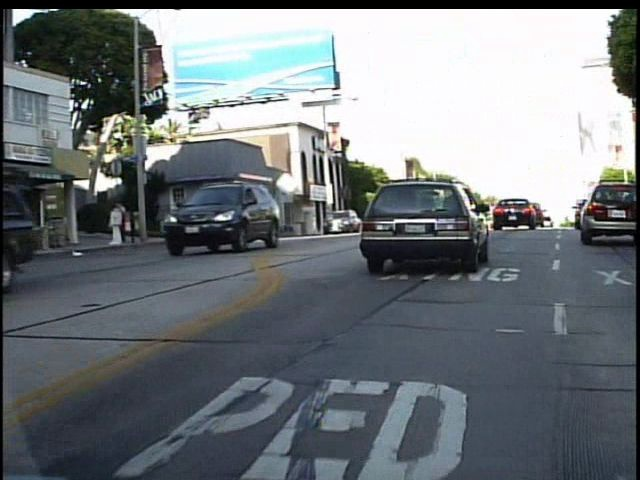person: (116, 197, 141, 245)
